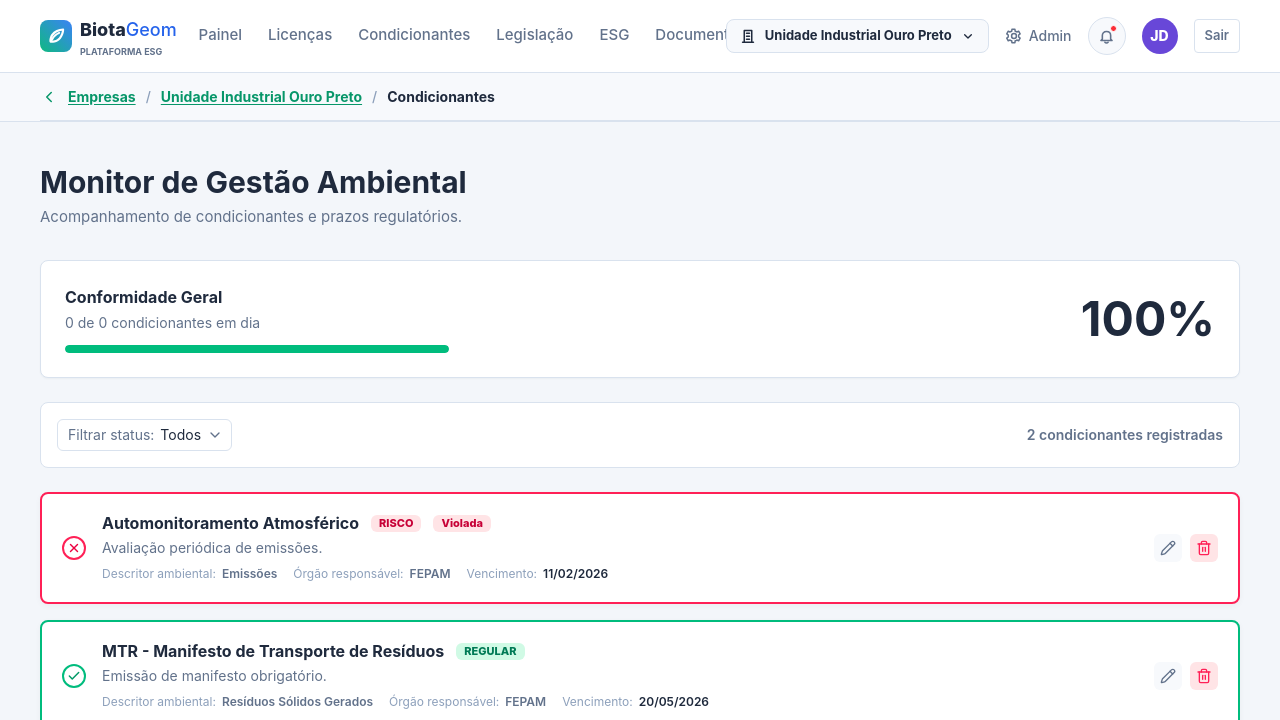
CompanyConditionsPage › reloads the list and counter when filtering and resetting the status
Expected: the text "2 condicionantes registradas" is shown, [1027,425,1223,445]
Click the dropdown labelled "Filtrar status" at x=145, y=435, box [57,419,232,451]
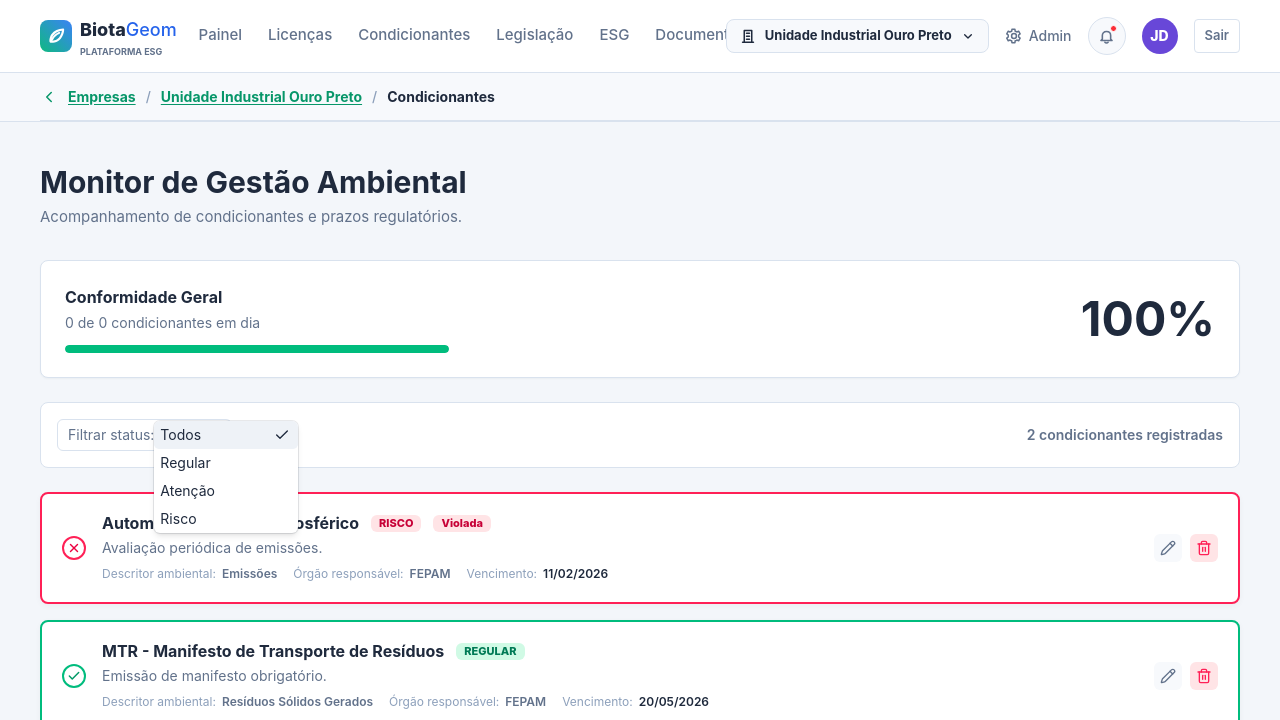
Click the option "Risco" at x=178, y=518, box [160,510,197,527]
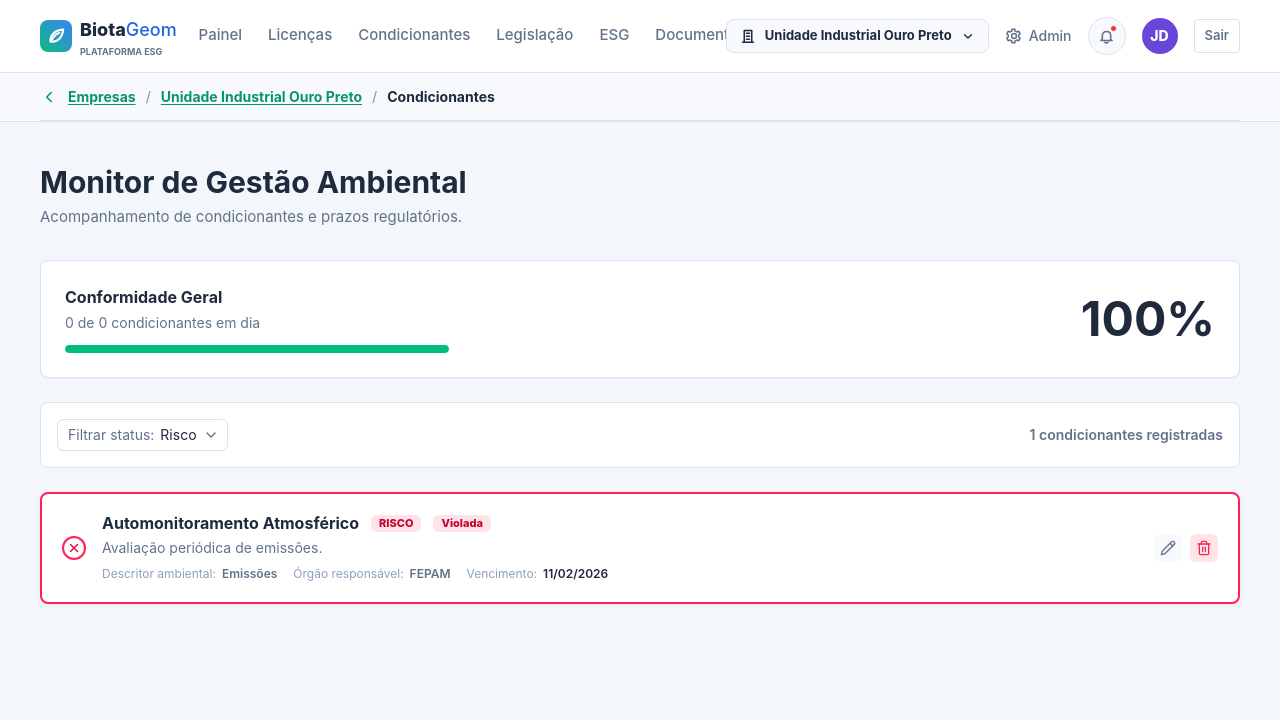
Expected: the text "1 condicionantes registradas" is shown, [1030,425,1223,445]
Expected: the heading "MTR - Manifesto de Transporte de Resíduos" is gone
Click the dropdown labelled "Filtrar status" at x=142, y=435, box [57,419,228,451]
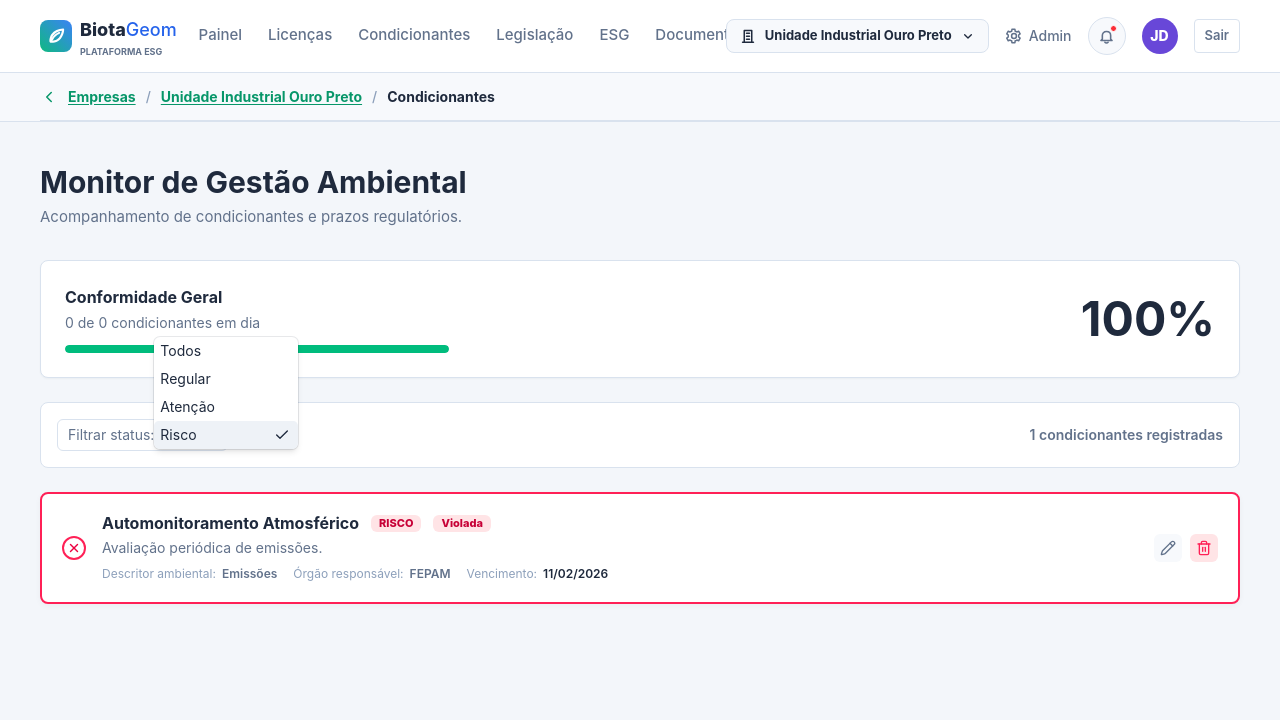
Click the option "Todos" at x=181, y=350, box [160,342,201,359]
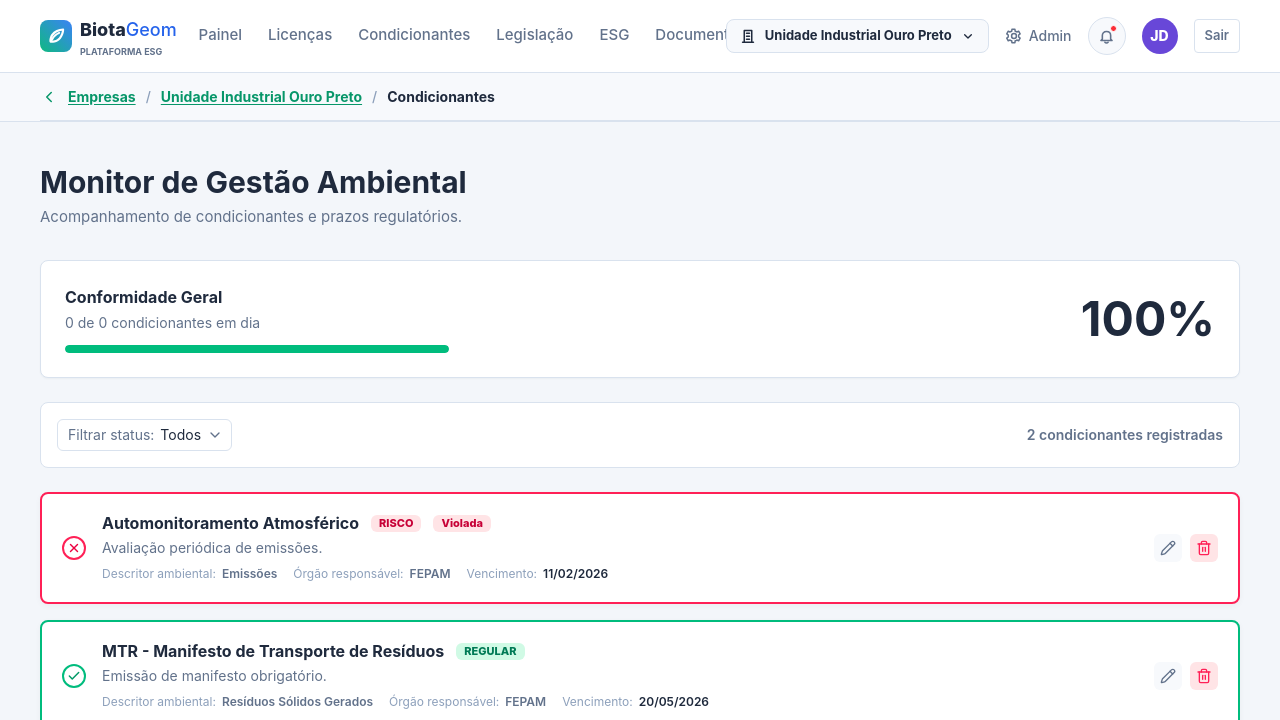
Expected: the text "2 condicionantes registradas" is shown, [1027,425,1223,445]
Expected: the heading "MTR - Manifesto de Transporte de Resíduos" is shown, [102,642,444,661]
